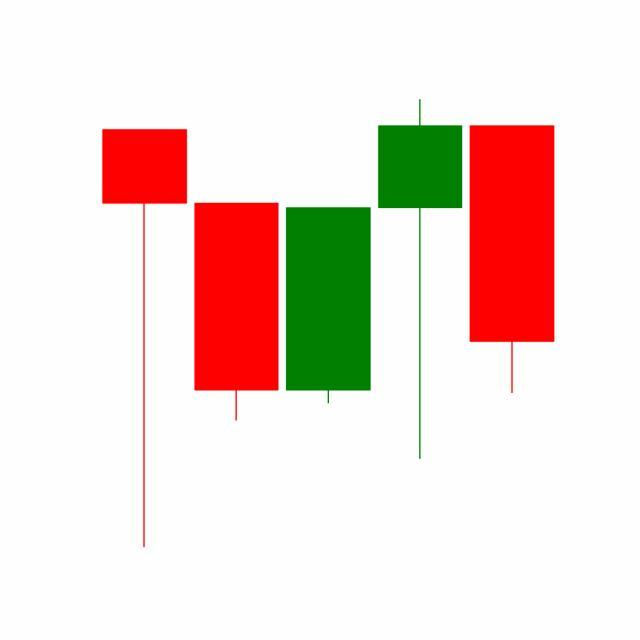Hanging Man: (374, 95, 468, 463)
